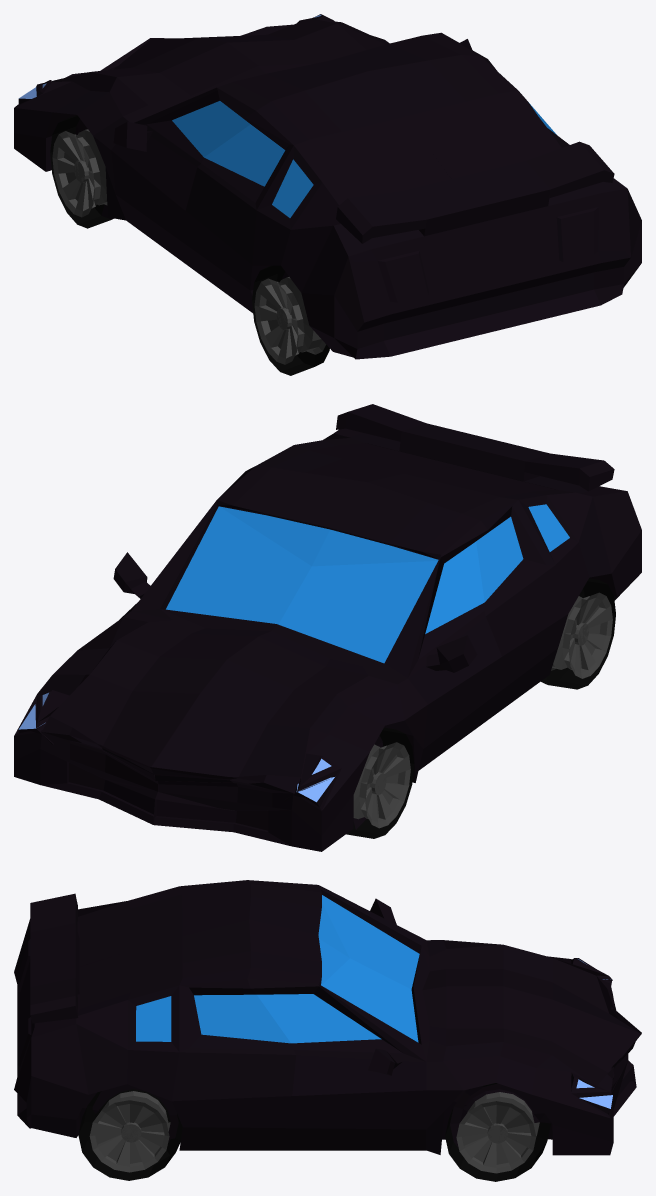
File: SprtCarWithbackwing.fbx
3 renders of one model, top to bottom at view 1: azimuth 30°, elevation 25°; view 2: azimuth 150°, elevation 25°; view 3: azimuth 270°, elevation 25°, orthographic. The views are drawn at different scales.
Visible parts, largest first — view 1: Cube; view 2: Cube; view 3: Cube.
Boxes of the visible parts, left/top/right/bottom form: Cube: left=14, top=14, right=641, bottom=375; Cube: left=14, top=404, right=641, bottom=851; Cube: left=14, top=880, right=641, bottom=1181.
Size of what is drawn, in the model's own units: 279 by 161 by 472.
